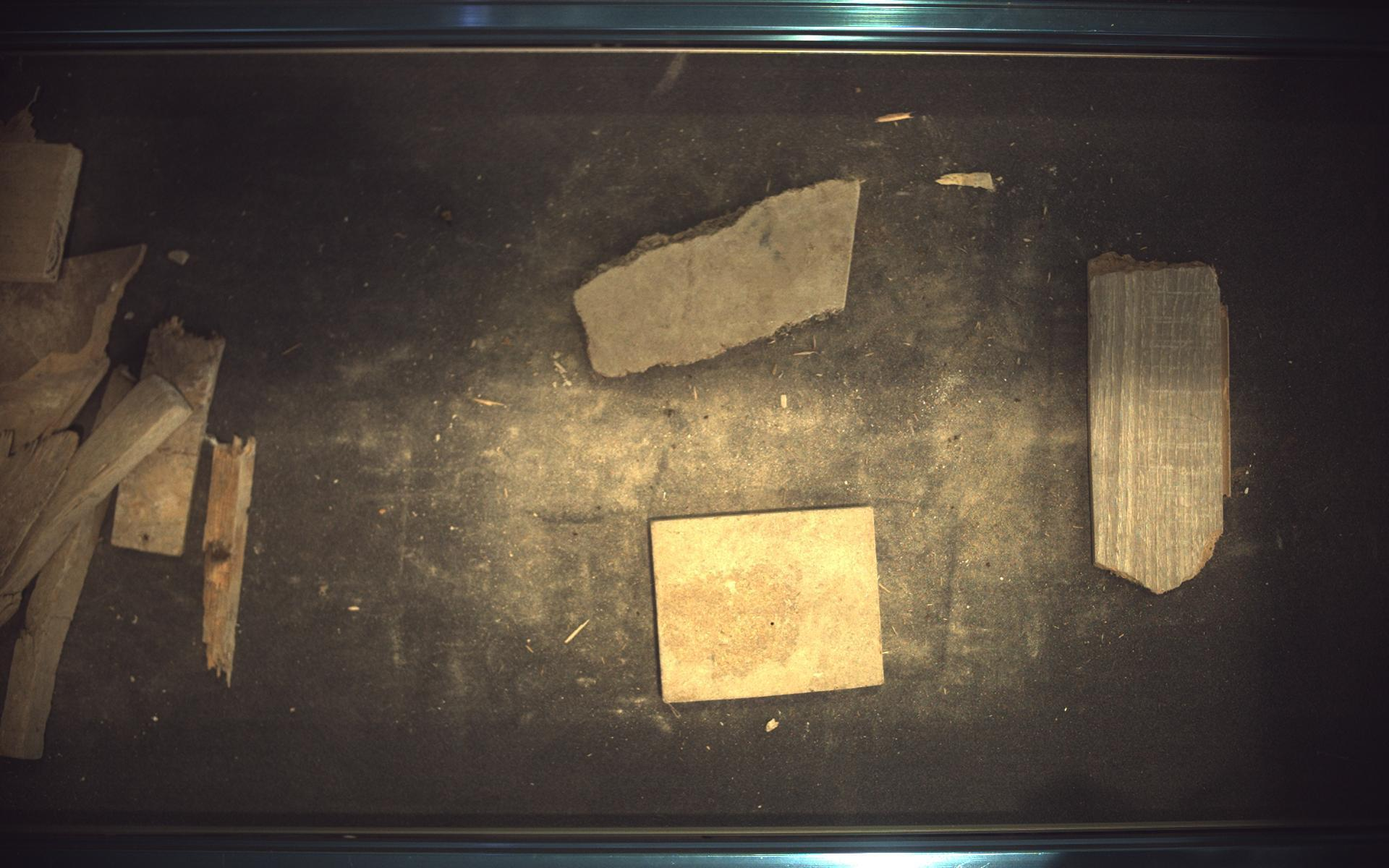wood: (574, 179, 862, 377), (1090, 252, 1234, 594), (651, 506, 885, 704), (1, 375, 191, 595), (1, 244, 145, 463), (1, 501, 106, 761), (1, 103, 81, 282), (202, 436, 255, 687)
